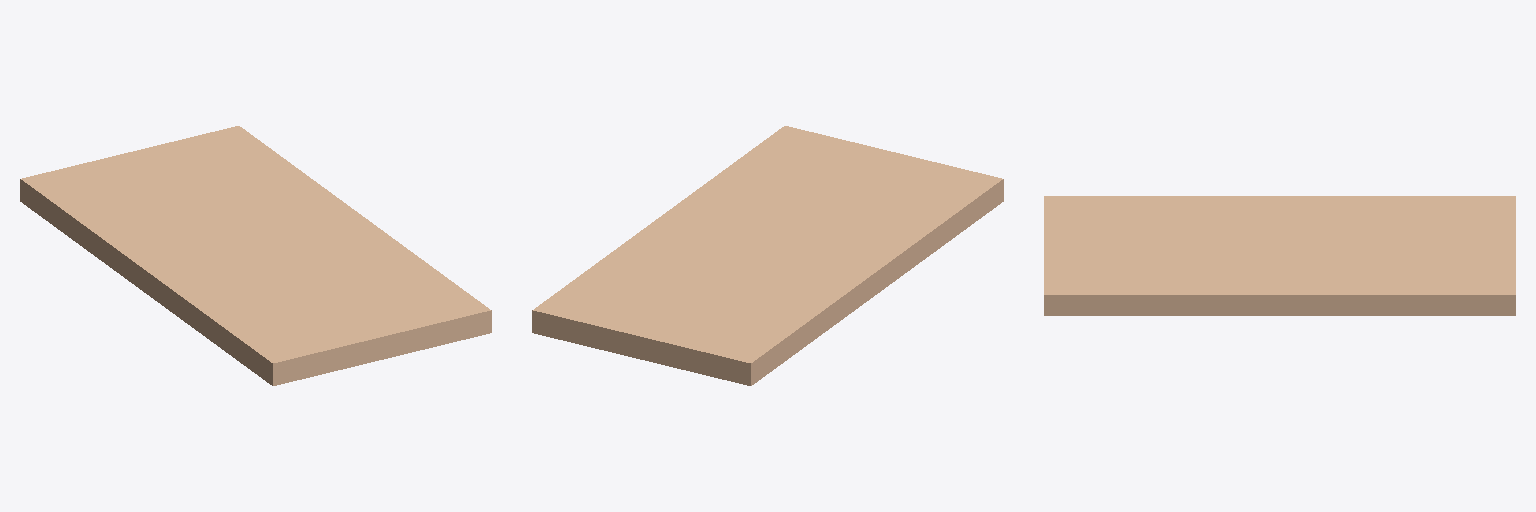
robot.urdf — supportsurface:
<?xml version="0.0" ?>
<robot name="supportsurface">
  <link name="surface">
    <contact>
      <lateral_friction value="1"/>
      <rolling_friction value="0.0"/>
      <contact_cfm value="0.0"/>
      <contact_erp value="1.0"/>
    </contact>
    <inertial>
      <origin rpy="0 0 0" xyz="0 0 0"/>
       <mass value=".05"/>
       <inertia ixx="0.0001" ixy="0" ixz="0" iyy="0.0001" iyz="0" izz="0.0001"/>
    </inertial>
    <visual>
      <origin rpy="0 0 0" xyz="0.0 0.0 0.0"/>
      <geometry>
        <box size="0.2 0.4 0.02"/>
      </geometry>
      <material name="wooden_texture">
        <color rgba="0.9297 0.7930 0.6758 1" />
      </material>
    </visual>
    <collision>
      <origin rpy="0 0 0" xyz="0.0 0.0 0.0"/>
      <geometry>
        <box size="0.2 0.4 0.02"/>
      </geometry>
    </collision>
  </link>


 
</robot>

--- Render facts (derived) ---
The picture shows the robot from 3 angles, left to right: view 1: azimuth 30°, elevation 25°; view 2: azimuth 150°, elevation 25°; view 3: azimuth 270°, elevation 25°; orthographic projection.
Model supportsurface with 1 links and 0 joints (none), rooted at surface, posed all joints at 0.
Links seen in each view (by area): view 1: surface; view 2: surface; view 3: surface.
Link boxes in pixels (left/top/right/bottom): surface: left=20, top=126, right=491, bottom=385; surface: left=532, top=126, right=1003, bottom=385; surface: left=1044, top=196, right=1515, bottom=315.
Bounding box of the posed robot: 0.2 × 0.4 × 0.02 m (x, y, z).
Geometry: primitives only (box / cylinder / sphere), no mesh files.